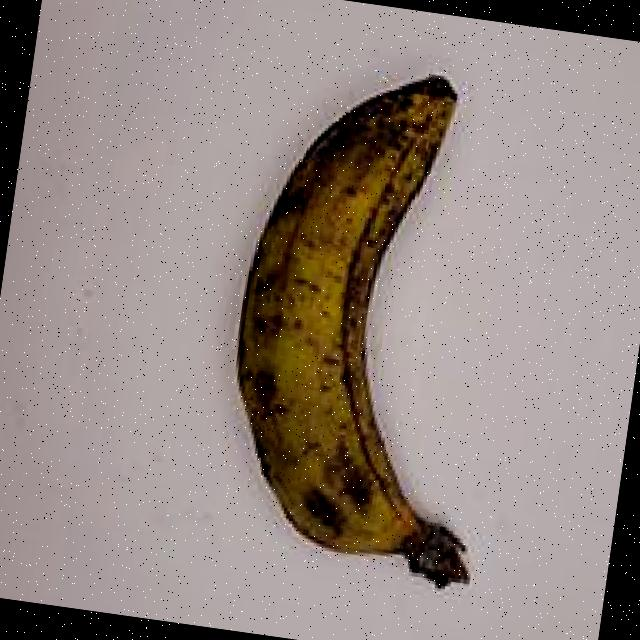Overripe: (152, 13, 593, 633)
